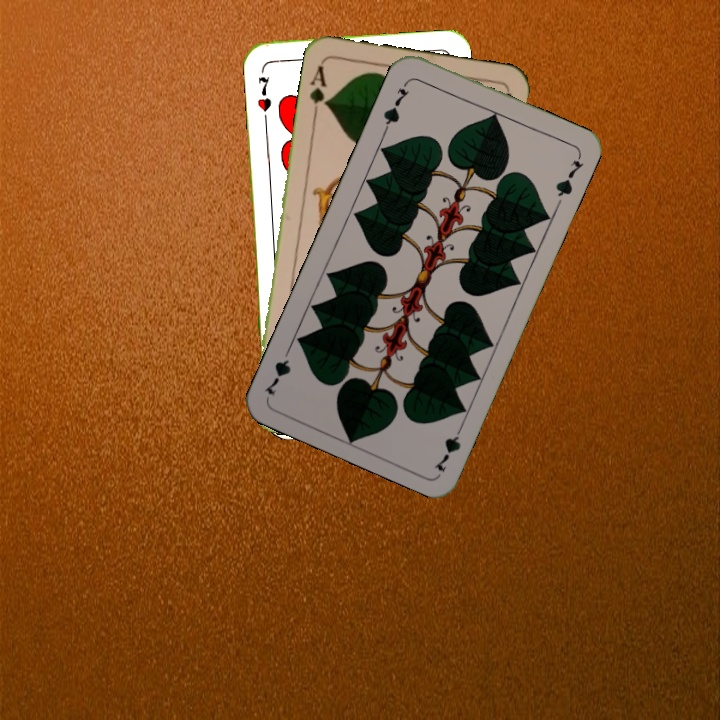G7: (430, 418, 467, 475), (379, 84, 412, 133)
GA: (305, 61, 332, 119)
H7: (253, 73, 274, 114)
